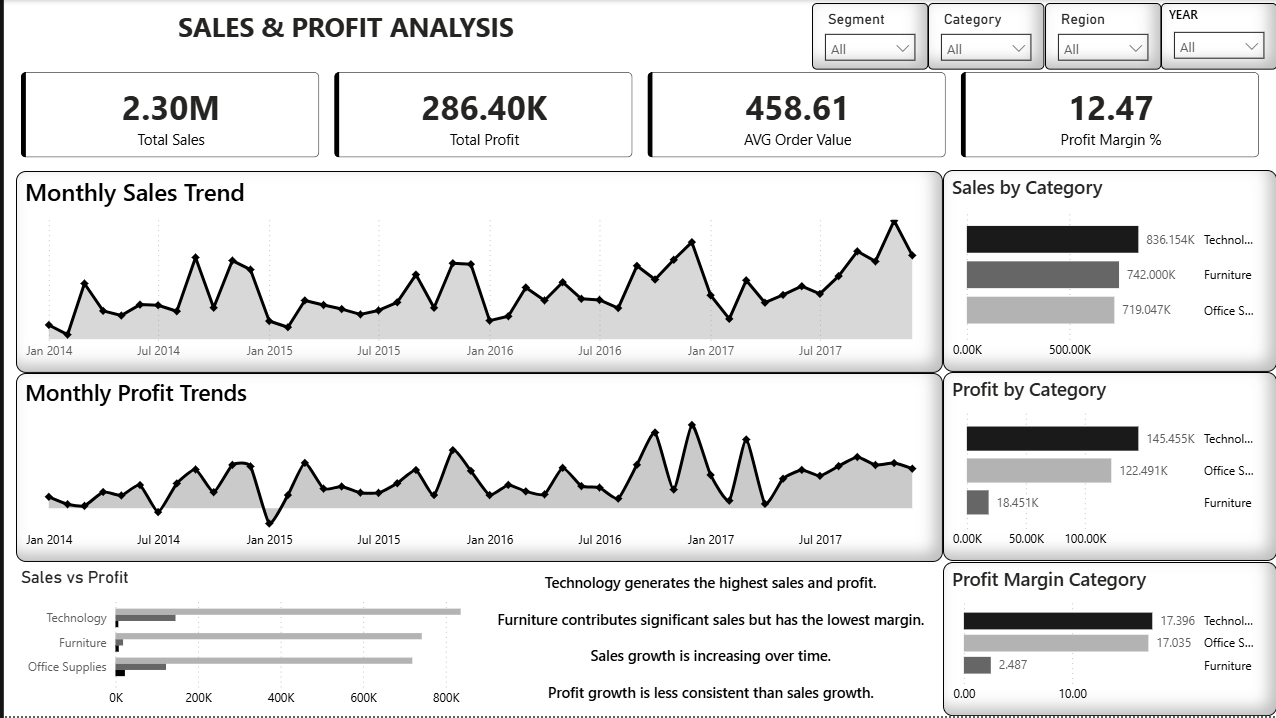

The dashboard page shown, as its layout file describes it:
{"tool":"powerbi","page":{"name":" SALES & PROFIT ANALYSIS","canvas":[1280,720],"ordinal":1},"visuals":[{"type":"textbox","box":[169.6,2.7,372.7,52.6],"z":0},{"type":"cardVisual","fields":{"Data":["sales_data.Total Sales","sales_data.Total Profit","sales_data.AVG Order Value","sales_data.Profit Margin %"]},"box":[0,55.3,1280,120.6],"z":1000},{"type":"lineChart","title":"Monthly Sales Trend","fields":{"Y":["sales_data.Total Sales"],"Category":["sales_data.Order Date.Variation.Date Hierarchy.Year","sales_data.Order Date.Variation.Date Hierarchy.Quarter","sales_data.Order Date.Variation.Date Hierarchy.Month"]},"box":[11.7,171.9,932.2,203.1],"z":2000},{"type":"lineChart","title":"Monthly Profit Trends","fields":{"Y":["sales_data.Total Profit"],"Category":["sales_data.Order Date.Variation.Date Hierarchy.Year","sales_data.Order Date.Variation.Date Hierarchy.Month"]},"box":[11.7,375.1,932.2,189.5],"z":3000},{"type":"clusteredBarChart","title":"Sales by Category","fields":{"Category":["sales_data.Category"],"Y":["Sum(sales_data.Sales)"]},"box":[944,171.4,336.4,203.1],"z":4000},{"type":"clusteredBarChart","title":"Sales vs Profit","fields":{"Y":["Sum(sales_data.Sales)","Sum(sales_data.Profit)","Sum(sales_data.Quantity)"],"Category":["sales_data.Category"]},"box":[11.8,570.4,466.1,149.6],"z":5000},{"type":"textbox","box":[478,570,466,150],"z":6000},{"type":"slicer","title":"YEAR","fields":{"Values":["sales_data.order_year"]},"box":[1163.4,2.7,117,67.1],"z":7000},{"type":"slicer","title":"YEAR","fields":{"Values":["rfmdf_analysis.Segment"]},"box":[812.5,2.7,117,67.1],"z":8000},{"type":"slicer","title":"YEAR","fields":{"Values":["sales_data.Category"]},"box":[929.5,2.7,117,67.1],"z":9000},{"type":"slicer","title":"YEAR","fields":{"Values":["sales_data.Region"]},"box":[1046.4,2.7,117,67.1],"z":10000},{"type":"clusteredBarChart","title":"Profit by Category","fields":{"Category":["sales_data.Category"],"Y":["Sum(sales_data.Profit)"]},"box":[944,374.5,336.4,190.4],"z":11000},{"type":"clusteredBarChart","title":"Profit Margin Category","fields":{"Category":["sales_data.Category"],"Y":["sales_data.Profit Margin %"]},"box":[944,564.9,336.4,155.1],"z":12000}]}

Visuals, with their boxes in screenshot pixels (x1, y1, x2, y2), scaled from the page's 1280x720 canvas onto the 1276x718 screenshot:
textbox: 169, 3, 541, 55
cardVisual - sales_data.Total Sales x sales_data.Total Profit: 0, 55, 1275, 175
"Monthly Sales Trend" lineChart: 12, 171, 941, 374
"Monthly Profit Trends" lineChart: 12, 374, 941, 563
"Sales by Category" clusteredBarChart: 941, 171, 1275, 373
"Sales vs Profit" clusteredBarChart: 12, 569, 476, 717
textbox: 477, 568, 941, 717
"YEAR" slicer: 1160, 3, 1275, 70
"YEAR" slicer: 810, 3, 927, 70
"YEAR" slicer: 927, 3, 1043, 70
"YEAR" slicer: 1043, 3, 1160, 70
"Profit by Category" clusteredBarChart: 941, 373, 1275, 563
"Profit Margin Category" clusteredBarChart: 941, 563, 1275, 717
